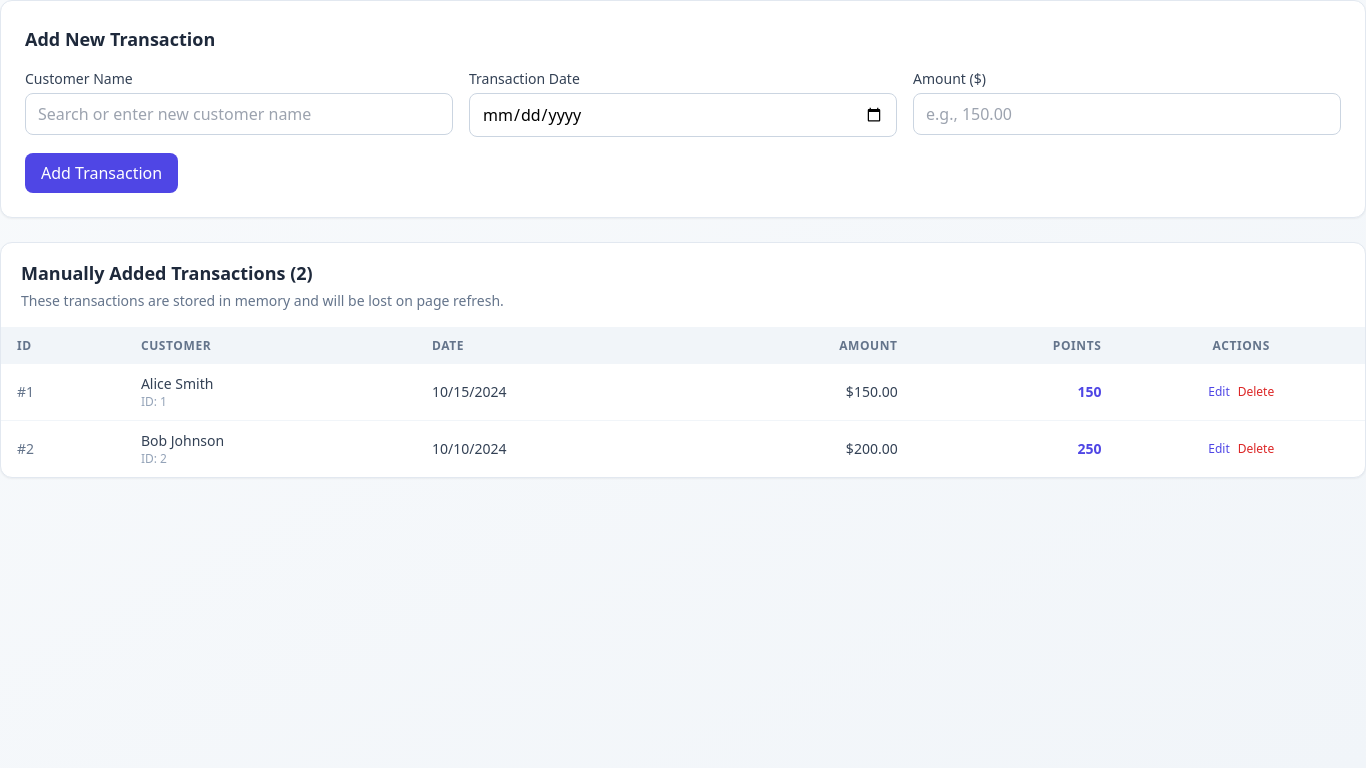
Admin › editing transactions › populates form when Edit button is clicked
Click the button with aria-label "Edit transaction 1" at {"x": 1219, "y": 392}, box [1208,384,1230,400]
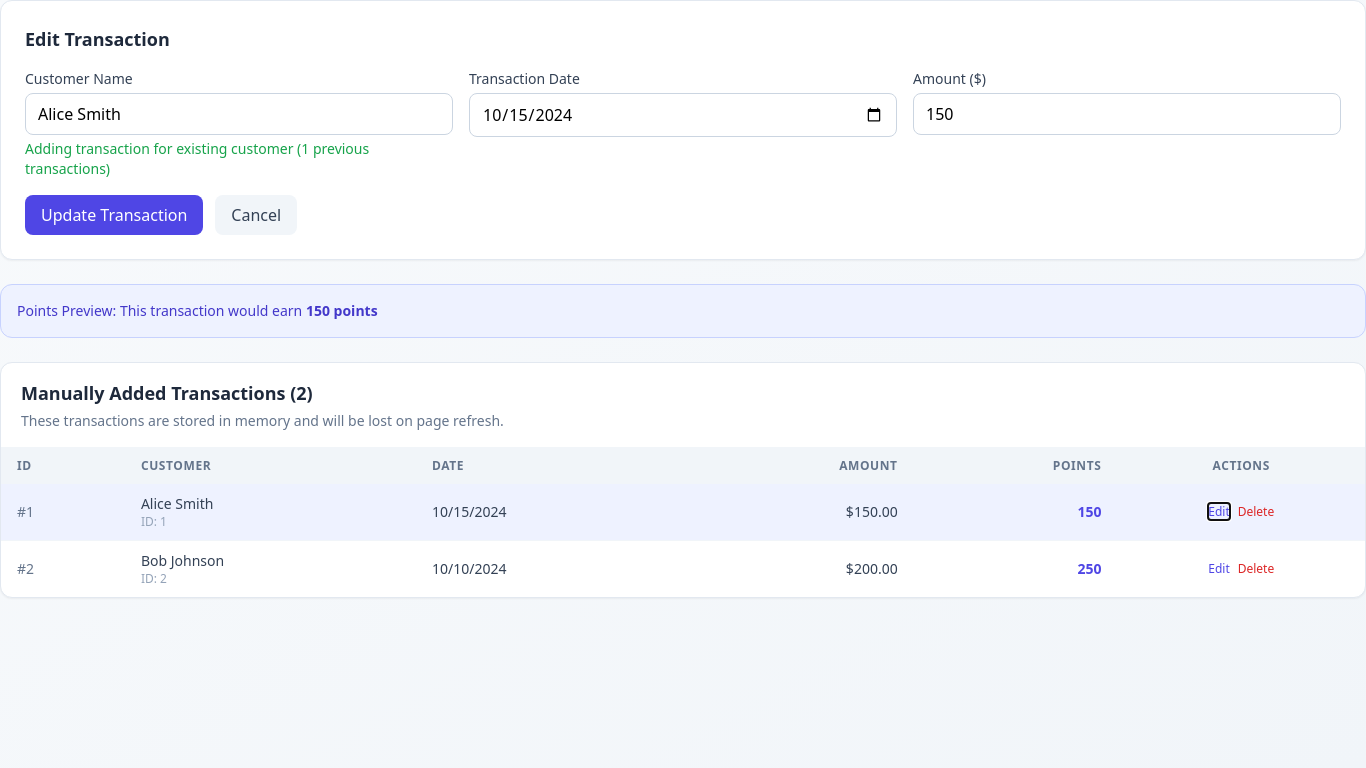
Check: the dropdown labelled "Customer Name" holds "Alice Smith", box [25,93,453,135]
Check: the number field labelled "Amount ($)" holds "150", box [913,93,1341,135]
Check: the heading "Edit Transaction" is shown, box [25,27,170,51]
